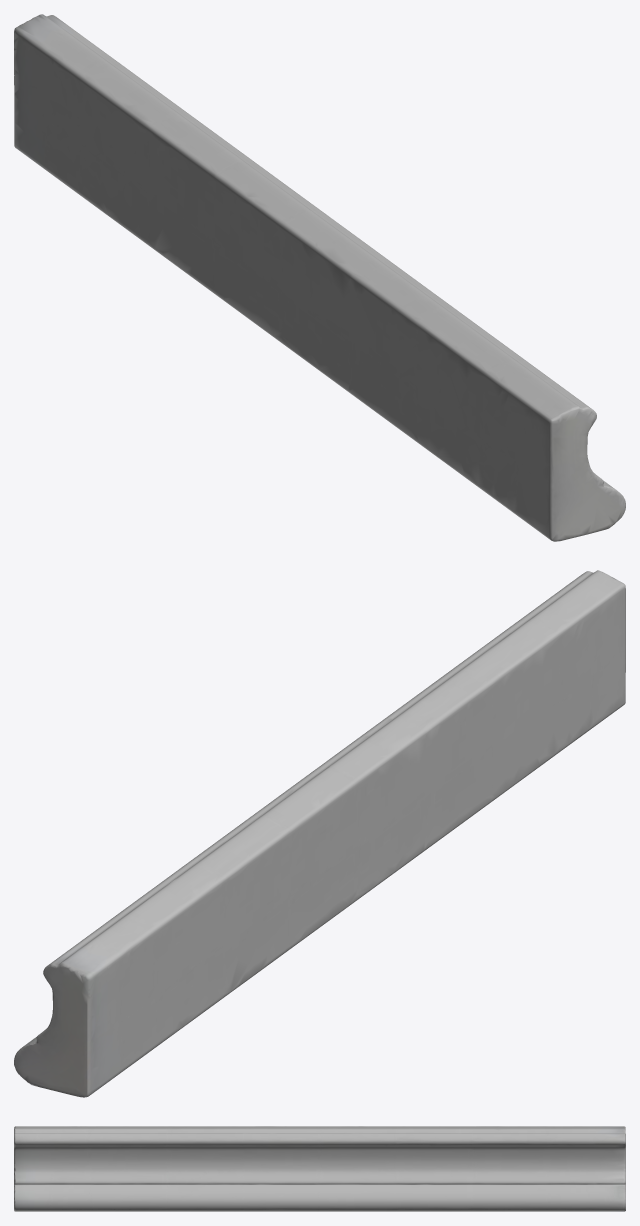
The model's file is 踢脚线.glb.
3 views of the same model, one above another, from view 1: azimuth 30°, elevation 25°; view 2: azimuth 150°, elevation 25°; view 3: azimuth 270°, elevation 25° (orthographic). The views are drawn at different scales.
Visible parts, largest first — view 1: tripo_node_9df62496-6e99-4ddd-9cc2-6a4ee119f951; view 2: tripo_node_9df62496-6e99-4ddd-9cc2-6a4ee119f951; view 3: tripo_node_9df62496-6e99-4ddd-9cc2-6a4ee119f951.
Boxes of the visible parts, x1=… form: tripo_node_9df62496-6e99-4ddd-9cc2-6a4ee119f951: x1=14, y1=14, x2=625, y2=541; tripo_node_9df62496-6e99-4ddd-9cc2-6a4ee119f951: x1=14, y1=570, x2=625, y2=1097; tripo_node_9df62496-6e99-4ddd-9cc2-6a4ee119f951: x1=14, y1=1126, x2=625, y2=1211.
Bounding box in the file's own units: 0.0816 × 0.1341 × 1.
1 material, 1 textured.
